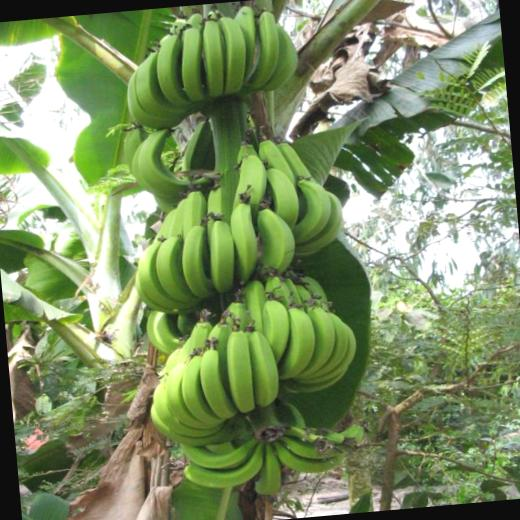Banana: (115, 0, 371, 504)
